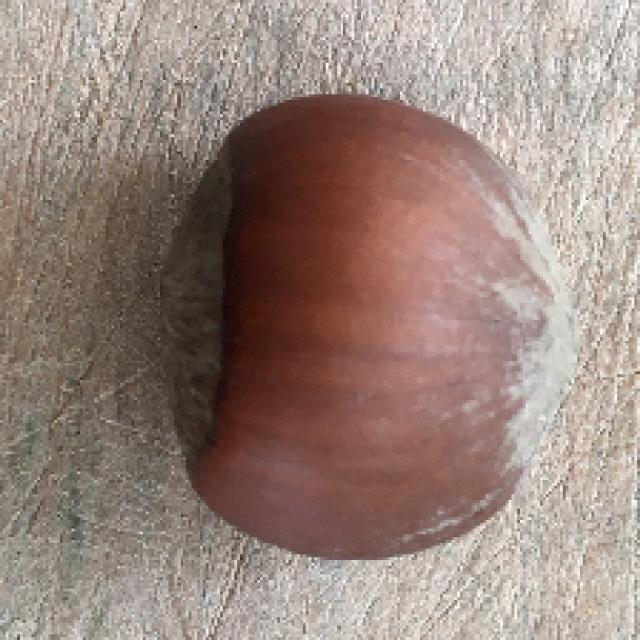qualityHazelnut: (156, 88, 572, 561)
